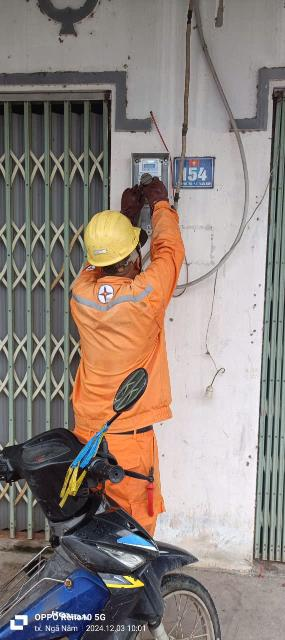gloves: (106, 182, 153, 230), (135, 169, 179, 217)
helmet: (84, 196, 161, 277)
